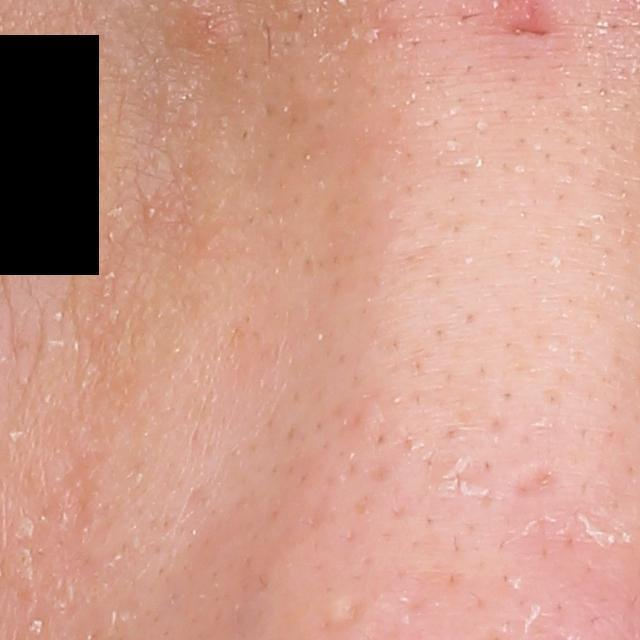atrophic_scar: (506, 458, 564, 507)
comedo: (141, 202, 160, 220)
